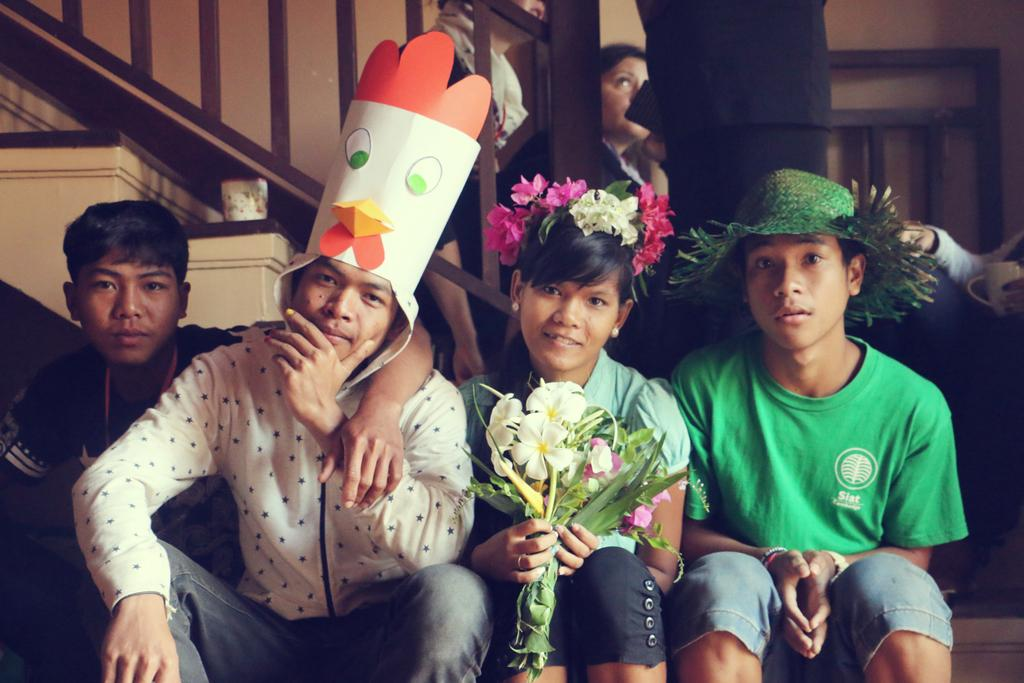Hat: (664, 166, 946, 332)
